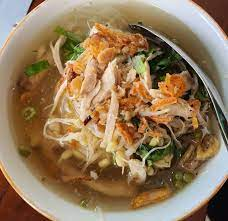soto: (3, 4, 228, 214)
